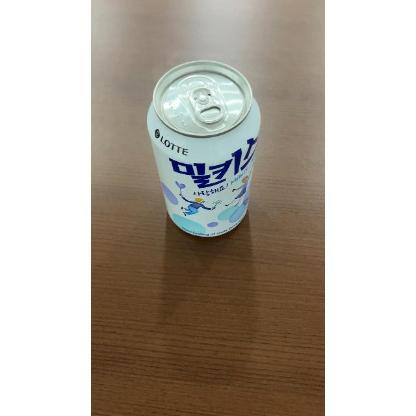Can: (146, 61, 262, 239)
